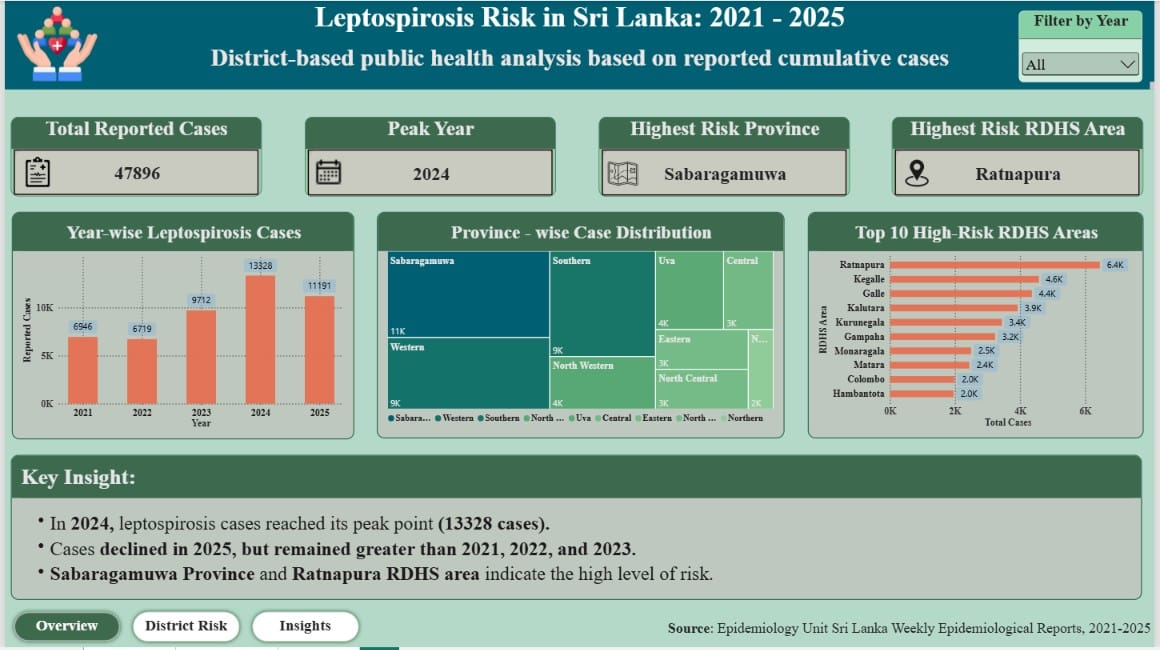

This screenshot's page, from the dashboard's own definition file:
{"tool":"powerbi","page":{"name":"Overview","canvas":[1920,1080],"ordinal":0},"visuals":[{"type":"textbox","title":"Leptospirosis Risk in Sri Lanka: 2021 - 2025","box":[0,0,1920.1,148.4],"z":0},{"type":"cardVisual","title":"Total Reported Cases","fields":{"Data":["Leptospirosis_Data.Total Cases"]},"box":[10.1,194.1,419,133],"z":1000},{"type":"cardVisual","title":"Peak Year","fields":{"Data":["Leptospirosis_Data.Highest Year"]},"box":[500.7,194.1,419,133.9],"z":2000},{"type":"cardVisual","title":"Highest Risk Province","fields":{"Data":["Leptospirosis_Data.Top Province"]},"box":[991.2,194.1,419,133.9],"z":3000},{"type":"cardVisual","title":"Highest Risk RDHS Area","fields":{"Data":["Leptospirosis_Data.Top RDHS Area"]},"box":[1481.7,194.1,419.8,133.9],"z":4000},{"type":"clusteredColumnChart","title":"Year-wise Leptospirosis Cases ","fields":{"Category":["Leptospirosis_Data.Year"],"Y":["Leptospirosis_Data.Total Cases"]},"box":[11.1,351.9,571.9,380],"z":5000},{"type":"treemap","title":"Province - wise Case Distribution","fields":{"Group":["Leptospirosis_Data.Province"],"Values":["Leptospirosis_Data.Total Cases"]},"box":[621.6,351.9,680.4,378.2],"z":6000},{"type":"clusteredBarChart","title":"Top 10 High-Risk RDHS Areas","fields":{"Category":["Leptospirosis_Data.RDHS Area"],"Y":["Leptospirosis_Data.Total Cases"]},"box":[1340.7,351.9,561,378.2],"z":7000},{"type":"slicer","title":"Filter by Year","fields":{"Values":["Leptospirosis_Data.Year"]},"box":[1693.8,16.3,206.3,119.4],"z":8000},{"type":"textbox","title":"Key Insight:  ","box":[10.2,758.9,1888.9,242.6],"z":9000},{"type":"textbox","box":[1087.6,1033.3,827,43.4],"z":10000},{"type":"image","box":[0,1.8,175.5,146.6],"z":11000},{"type":"image","box":[502.3,261.4,79.6,50.7],"z":12000},{"type":"image","box":[23.9,260.2,62.7,50.5],"z":13000},{"type":"image","box":[1006.8,261.4,50.7,52.5],"z":14000},{"type":"image","box":[1490.9,263.6,64,48],"z":15000},{"type":"pageNavigator","box":[9,1013.4,589.9,63.3],"z":16000}]}

Visuals, with their boxes in screenshot pixels (x1, y1, x2, y2), scaled from the page's 1920x1080 canvas onto the 1160x650 screenshot:
"Leptospirosis Risk in Sri Lanka: 2021 - 2025" textbox: 0, 0, 1159, 89
"Total Reported Cases" cardVisual: 6, 117, 259, 197
"Peak Year" cardVisual: 303, 117, 556, 197
"Highest Risk Province" cardVisual: 599, 117, 852, 197
"Highest Risk RDHS Area" cardVisual: 895, 117, 1149, 197
"Year-wise Leptospirosis Cases " clusteredColumnChart: 7, 212, 352, 440
"Province - wise Case Distribution" treemap: 376, 212, 787, 439
"Top 10 High-Risk RDHS Areas" clusteredBarChart: 810, 212, 1149, 439
"Filter by Year" slicer: 1023, 10, 1148, 82
"Key Insight:  " textbox: 6, 457, 1147, 603
textbox: 657, 622, 1157, 648
image: 0, 1, 106, 89
image: 303, 157, 352, 188
image: 14, 157, 52, 187
image: 608, 157, 639, 189
image: 901, 159, 939, 188
pageNavigator: 5, 610, 362, 648
